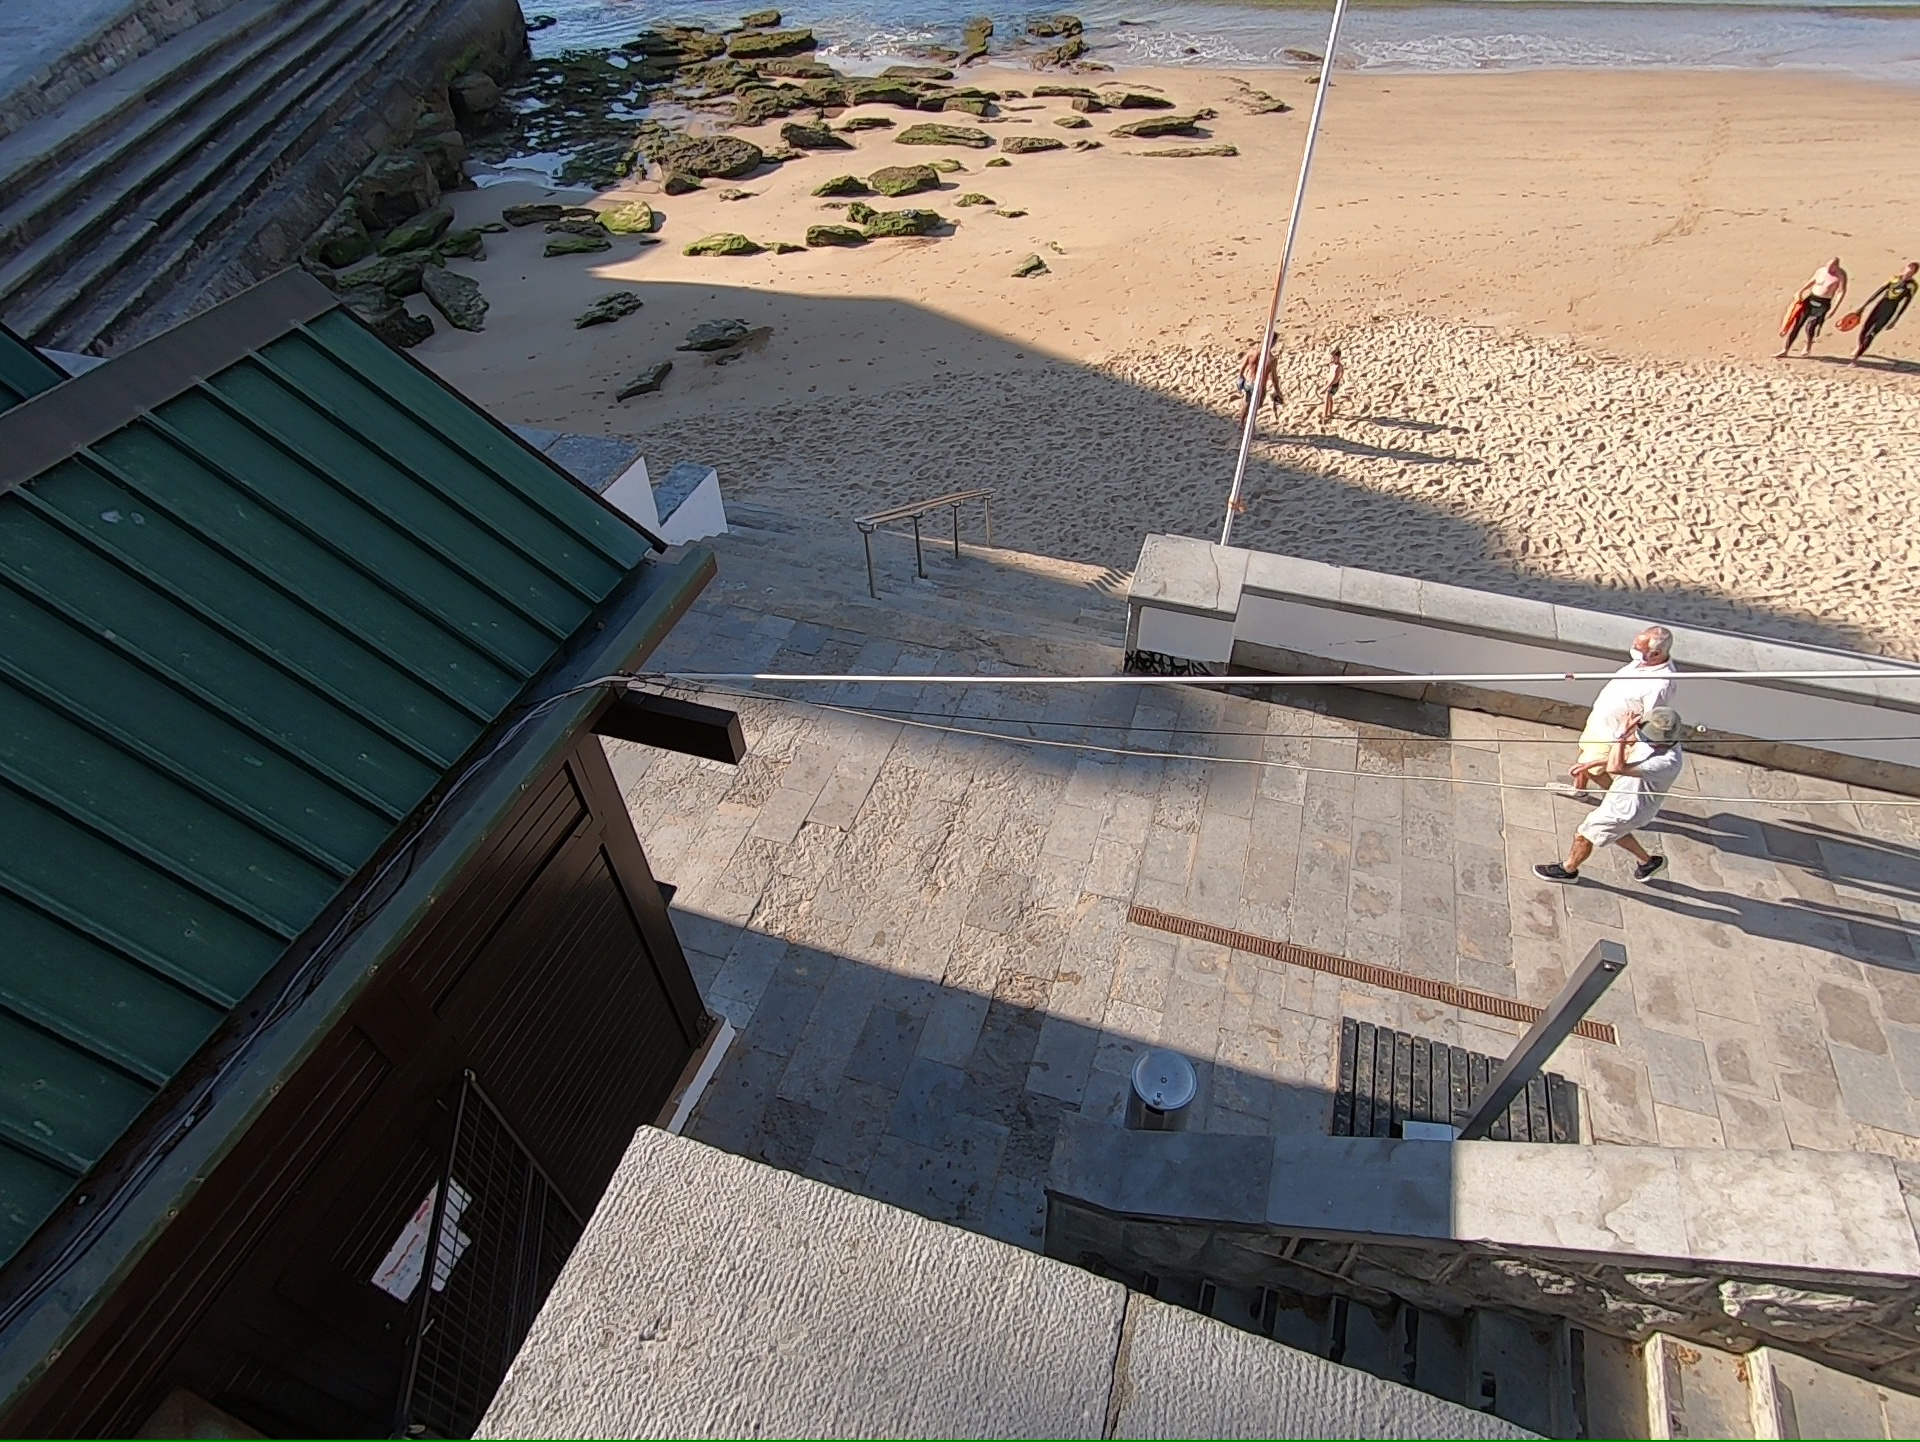person: (1542, 704, 1686, 885), (1780, 253, 1847, 356), (1857, 256, 1920, 361), (1240, 329, 1280, 428), (1321, 347, 1344, 418)
